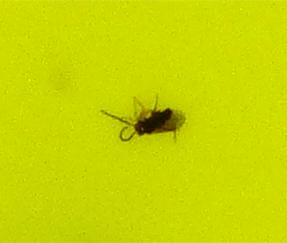Hymenoptera: (100, 100, 187, 143)
